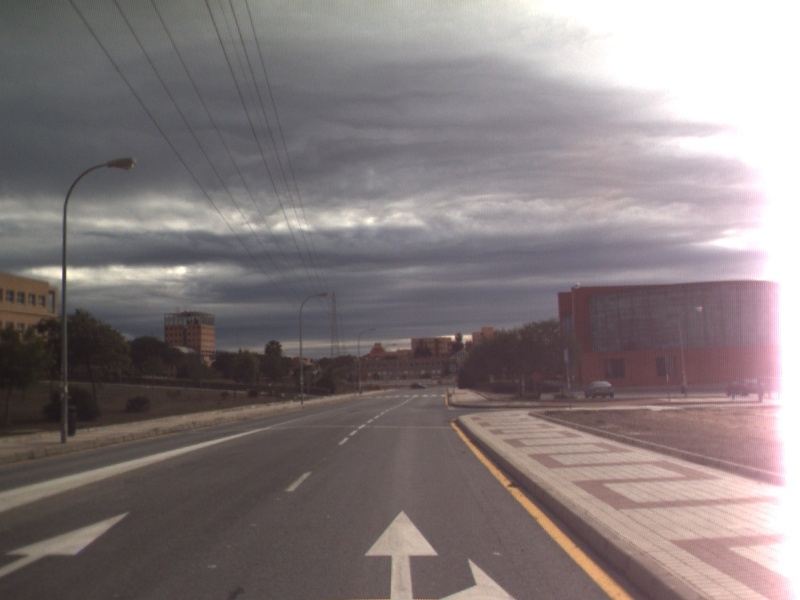STRAIGHT: (1, 507, 137, 580)
STRAIGHT_RIGHT: (361, 505, 522, 600)
